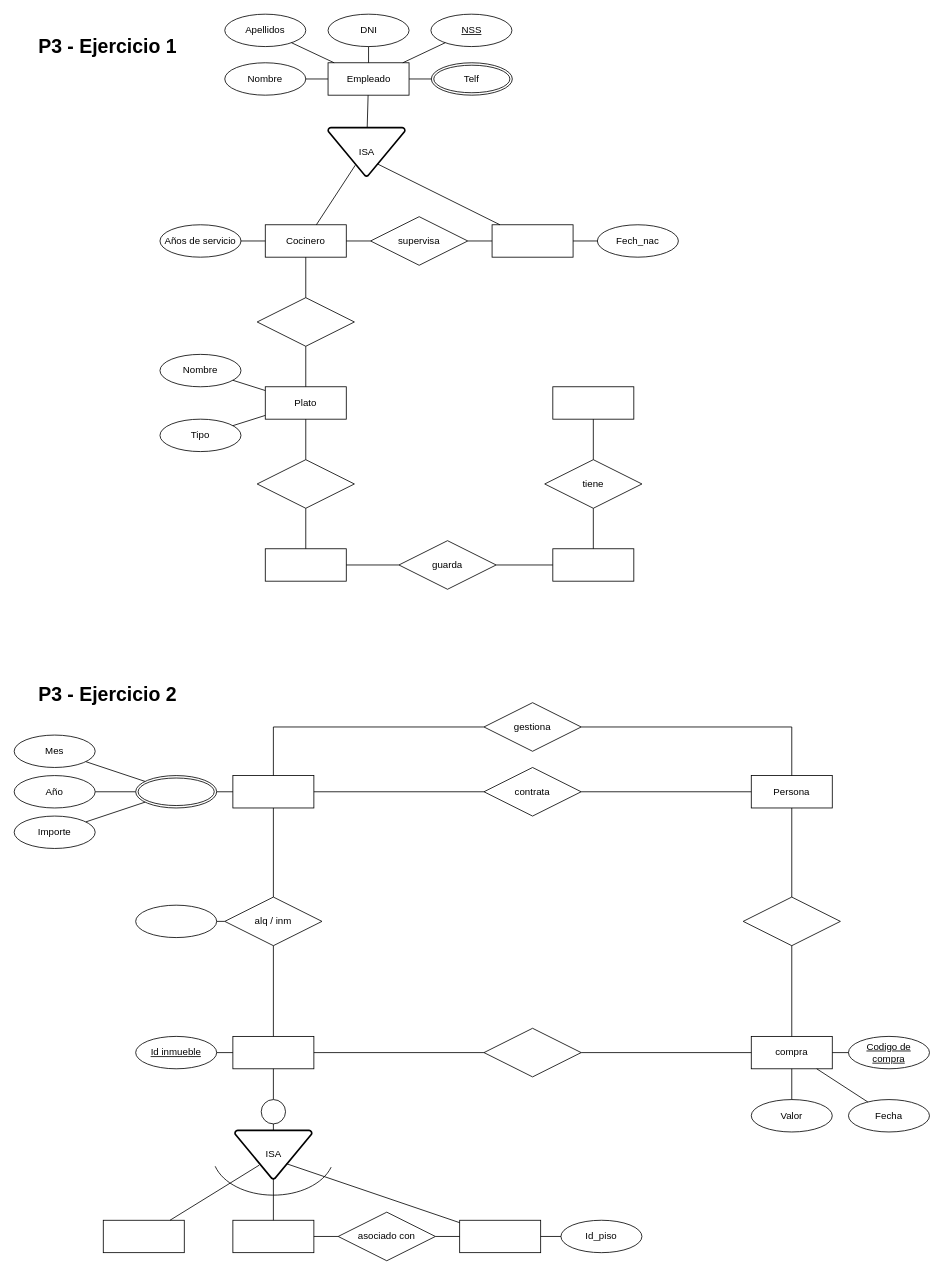
Image size: 944x1275. Some labels were removed from this diagram. Each missing label, with the centre of its shape:
Almacen: point 593,402
alquiler: point 273,791
Attribute: point 176,791
cocina: point 305,321
com / inm: point 532,1052
Estantes: point 593,564
forman: point 305,483
Garaje: point 273,1236
Ingredientes: point 305,564
Inmueble: point 273,1052
Local: point 143,1236
N_alquiler: point 176,921
Pinche: point 532,240
Piso: point 500,1236
realiza: point 791,921
